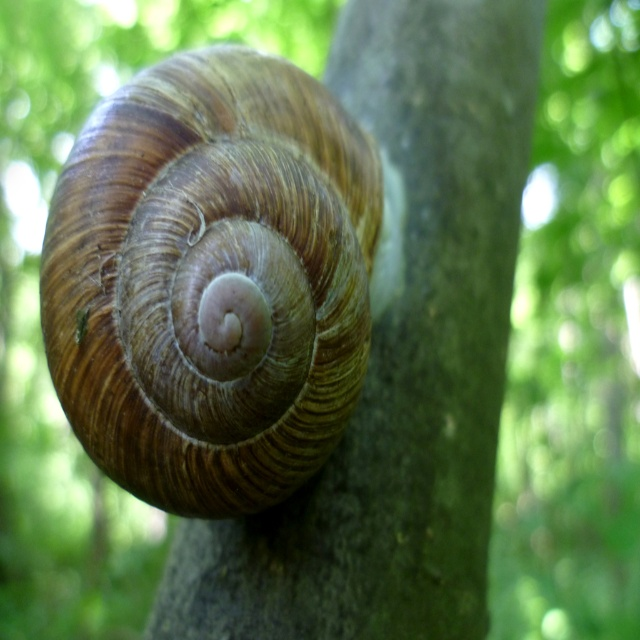Snail: (33, 41, 385, 529)
